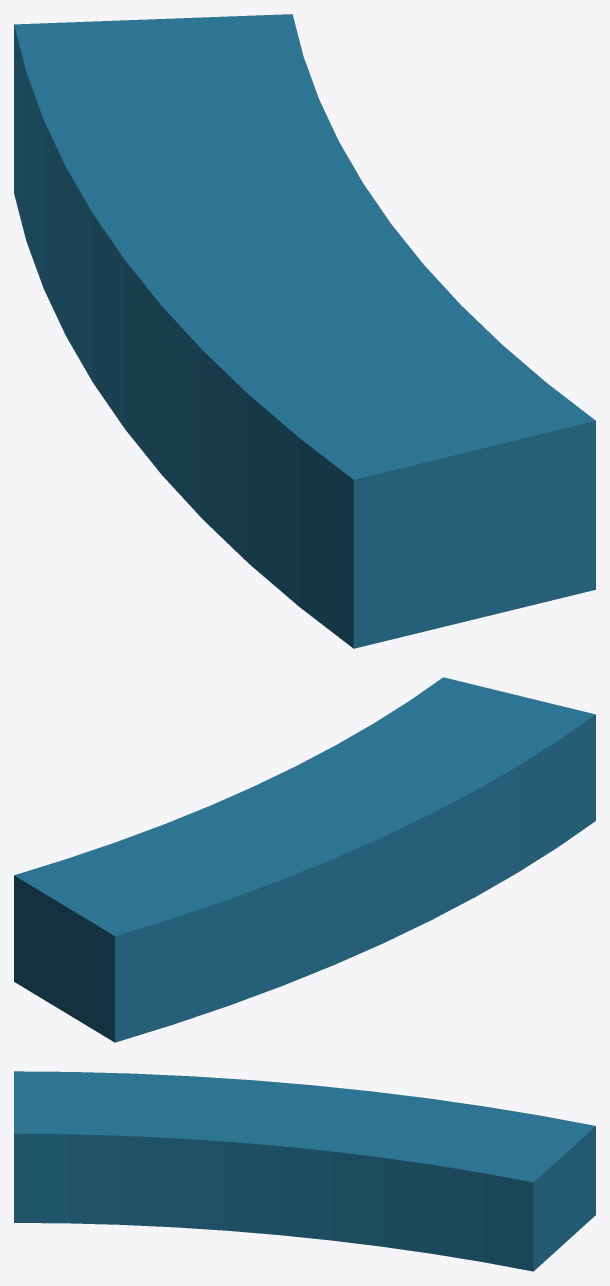
Rendered from 28Arch25.obj.
The picture shows the model from 3 angles, top to bottom: view 1: azimuth 30°, elevation 25°; view 2: azimuth 150°, elevation 25°; view 3: azimuth 270°, elevation 25°; orthographic projection. The views are drawn at different scales.
Parts seen in each view (by area): view 1: 28Arch25; view 2: 28Arch25; view 3: 28Arch25.
Part boxes in pixels (<box>): 28Arch25: <box>14,14,595,648</box>; 28Arch25: <box>14,677,595,1042</box>; 28Arch25: <box>14,1071,595,1271</box>.
Size of the model in its own units: 0.5342 by 0.2 by 1.18.
